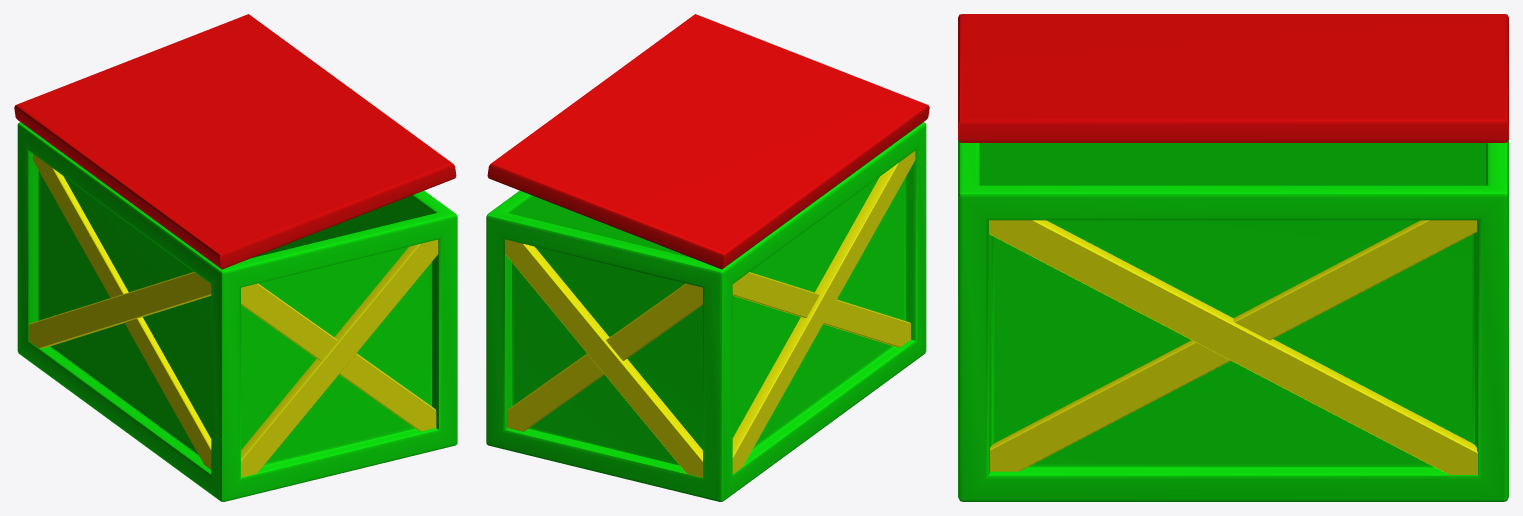
File: Hidding_Box.fbx
3 views of the same model, side by side, from view 1: azimuth 30°, elevation 25°; view 2: azimuth 150°, elevation 25°; view 3: azimuth 270°, elevation 25° (orthographic). The views are drawn at different scales.
Parts seen in each view (by area): view 1: box1, toit; view 2: box1, toit; view 3: box1, toit.
Boxes of the visible parts, bbox=[...] form: box1: bbox=[17, 122, 457, 501]; toit: bbox=[14, 14, 456, 269]; box1: bbox=[486, 122, 926, 501]; toit: bbox=[487, 14, 929, 269]; box1: bbox=[958, 140, 1508, 501]; toit: bbox=[958, 14, 1508, 142].
Bounding box in the file's own units: 1.01 × 1.14 × 1.5.
